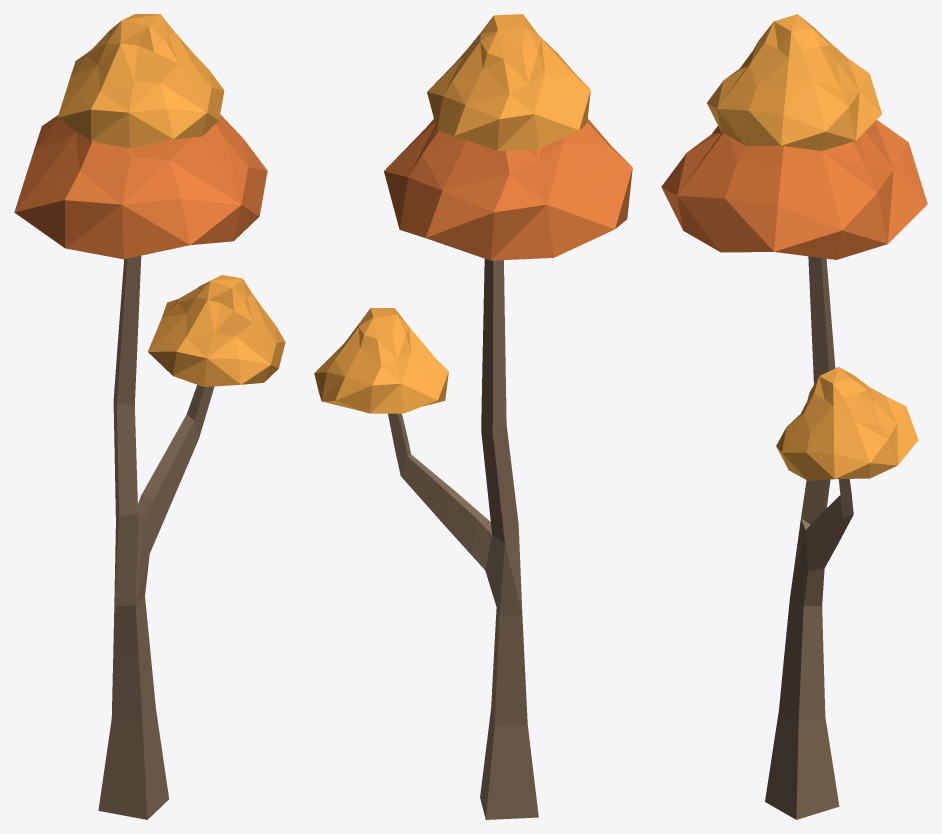
Rendered from Tree_4.fbx.
3 views of the same model, side by side, from view 1: azimuth 30°, elevation 25°; view 2: azimuth 150°, elevation 25°; view 3: azimuth 270°, elevation 25° (orthographic).
Visible parts, largest first — view 1: M_Tree 4; view 2: M_Tree 4; view 3: M_Tree 4.
Part boxes in pixels (left/top/right/bottom): M_Tree 4: left=14, top=14, right=285, bottom=819; M_Tree 4: left=314, top=14, right=632, bottom=819; M_Tree 4: left=661, top=14, right=927, bottom=819.
Size of the model in its own units: 83.16 by 223 by 68.8.
1 material, 1 textured.
